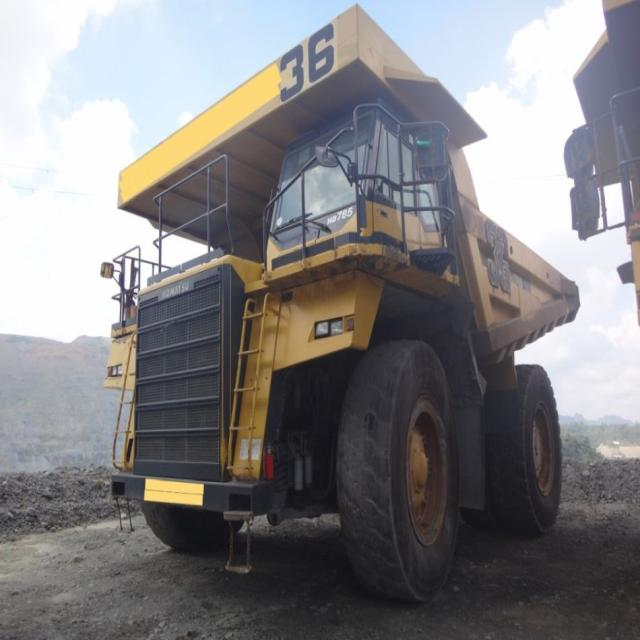dump_truck: (99, 11, 596, 598)
